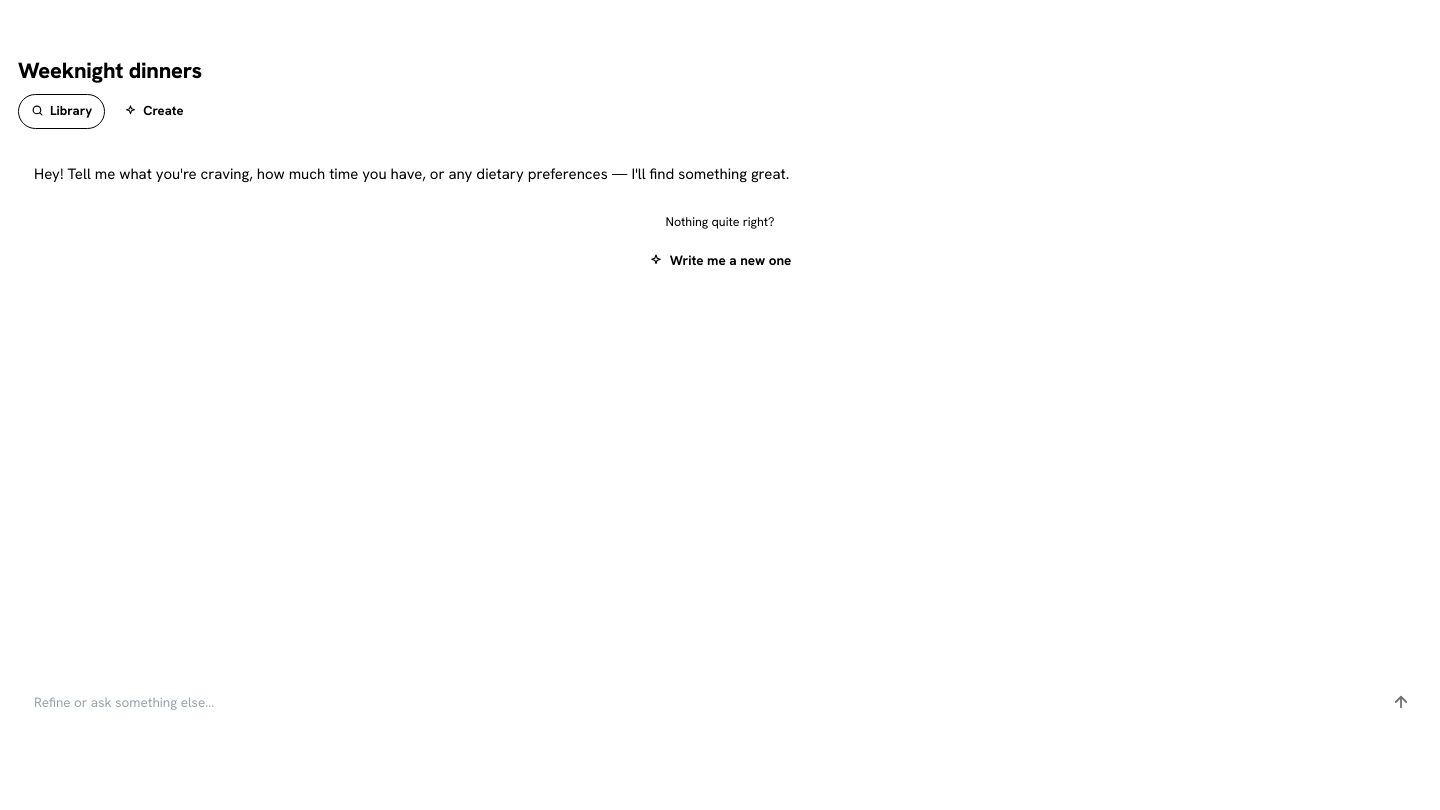
Test: ChatPage — Library and Create modes › switching to Create swaps the surface, the composer and the send action
Expected: the text "Tell me what you're craving" is shown, 34,164 -> 789,184
Click the tab "Create" at (154, 111), box 111,94 -> 196,128
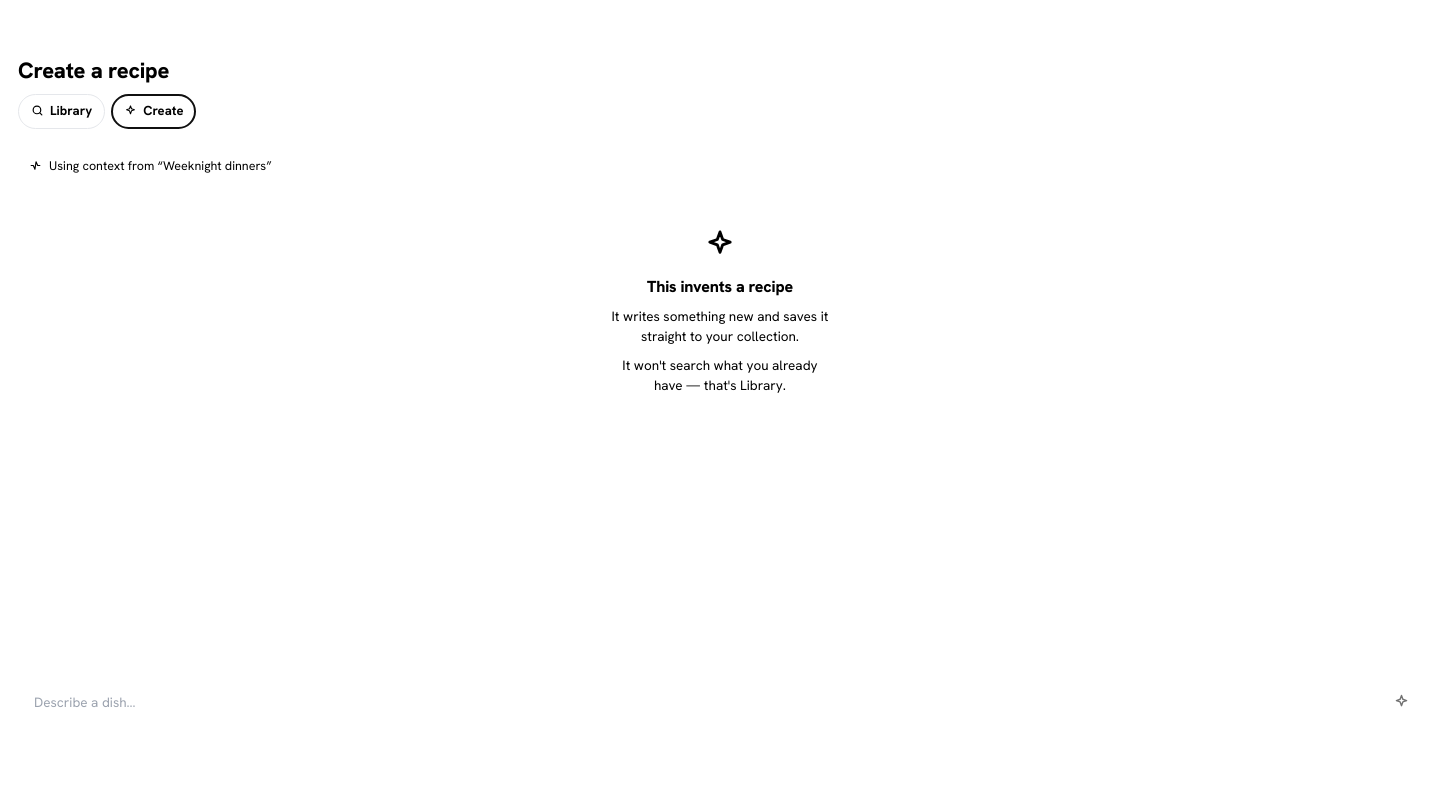
Expected: the text "Create a recipe" is shown, 18,56 -> 169,85
Expected: the field named "Describe the recipe to generate" is shown, 18,680 -> 1371,724
Expected: the button named "Generate recipe" is shown, 1380,681 -> 1422,723
